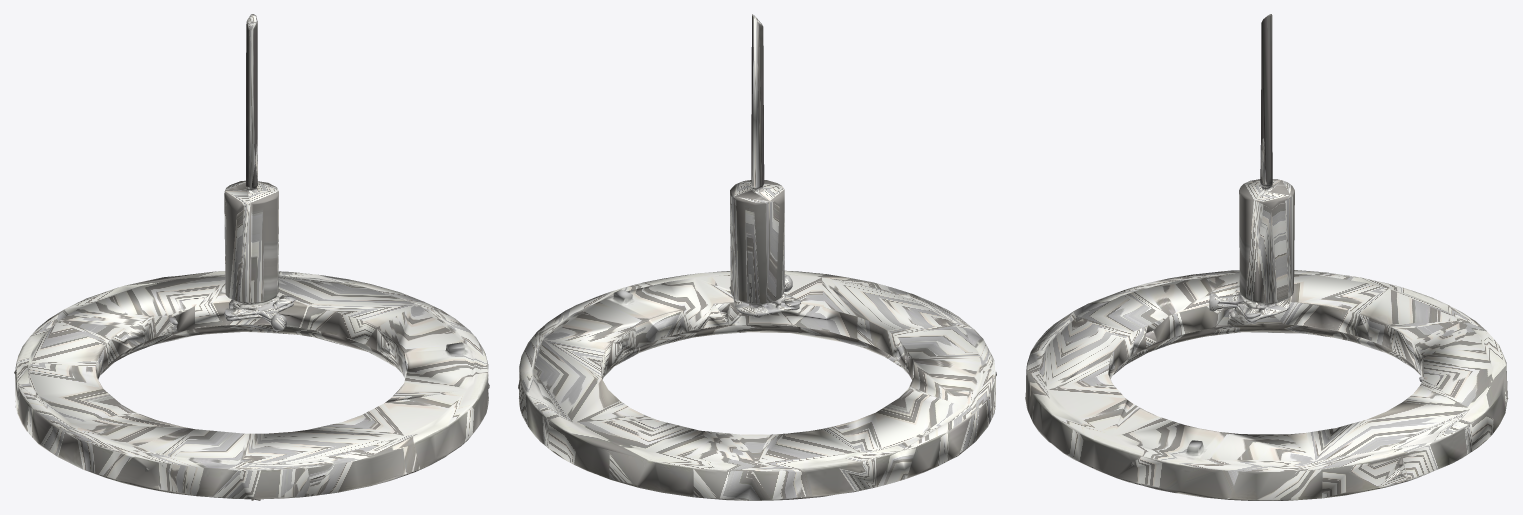
Rendered from ring_lamp.glb.
The picture shows the model from 3 angles, left to right: view 1: azimuth 30°, elevation 25°; view 2: azimuth 150°, elevation 25°; view 3: azimuth 270°, elevation 25°; orthographic projection.
Parts seen in each view (by area): view 1: tripo_node_a46d7d9b-a760-445b-987c-f3f7afcf0d2d; view 2: tripo_node_a46d7d9b-a760-445b-987c-f3f7afcf0d2d; view 3: tripo_node_a46d7d9b-a760-445b-987c-f3f7afcf0d2d.
Part boxes in pixels (box(x1,y1,x2,y2)): tripo_node_a46d7d9b-a760-445b-987c-f3f7afcf0d2d: box(14, 14, 489, 500); tripo_node_a46d7d9b-a760-445b-987c-f3f7afcf0d2d: box(518, 14, 996, 500); tripo_node_a46d7d9b-a760-445b-987c-f3f7afcf0d2d: box(1025, 14, 1508, 500).
Size of the model in its own units: 0.9958 by 0.8928 by 0.9995.
Materials: 1 (1 with a texture image).
